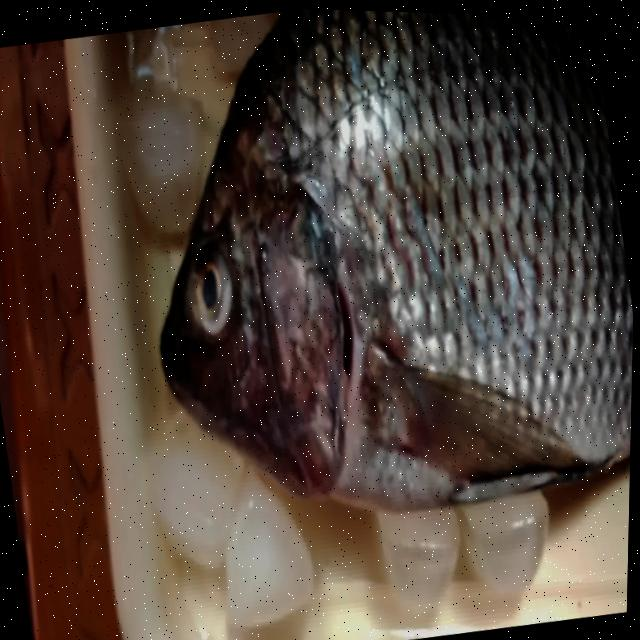Fresh: (224, 5, 640, 513), (176, 210, 267, 368)
